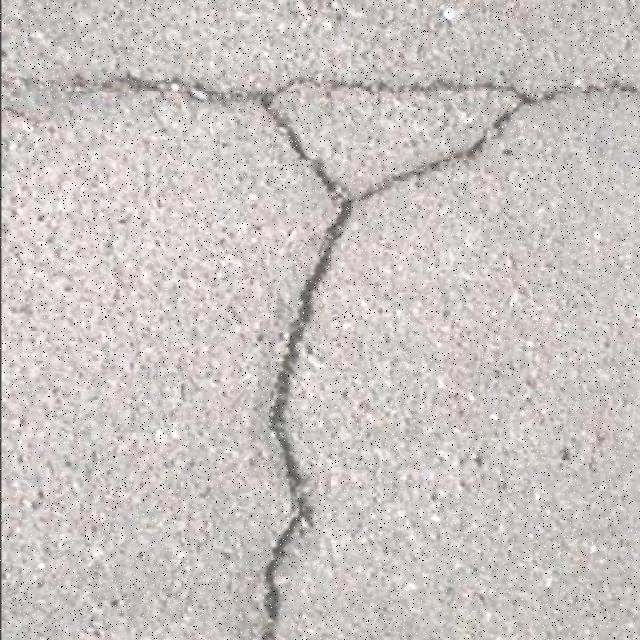Crack: (118, 72, 640, 640)
